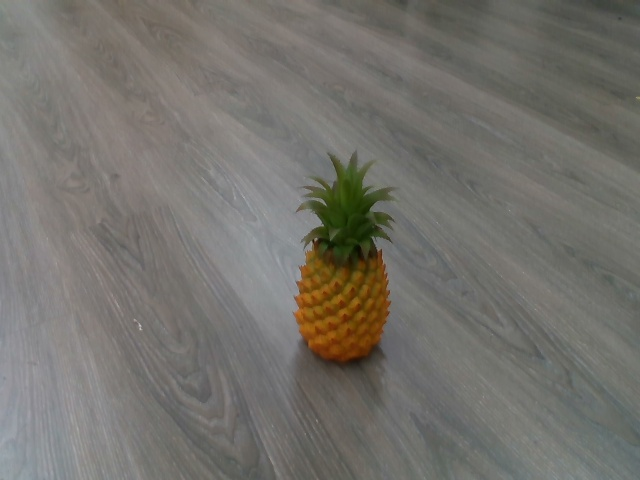pineapple: (285, 141, 403, 366)
